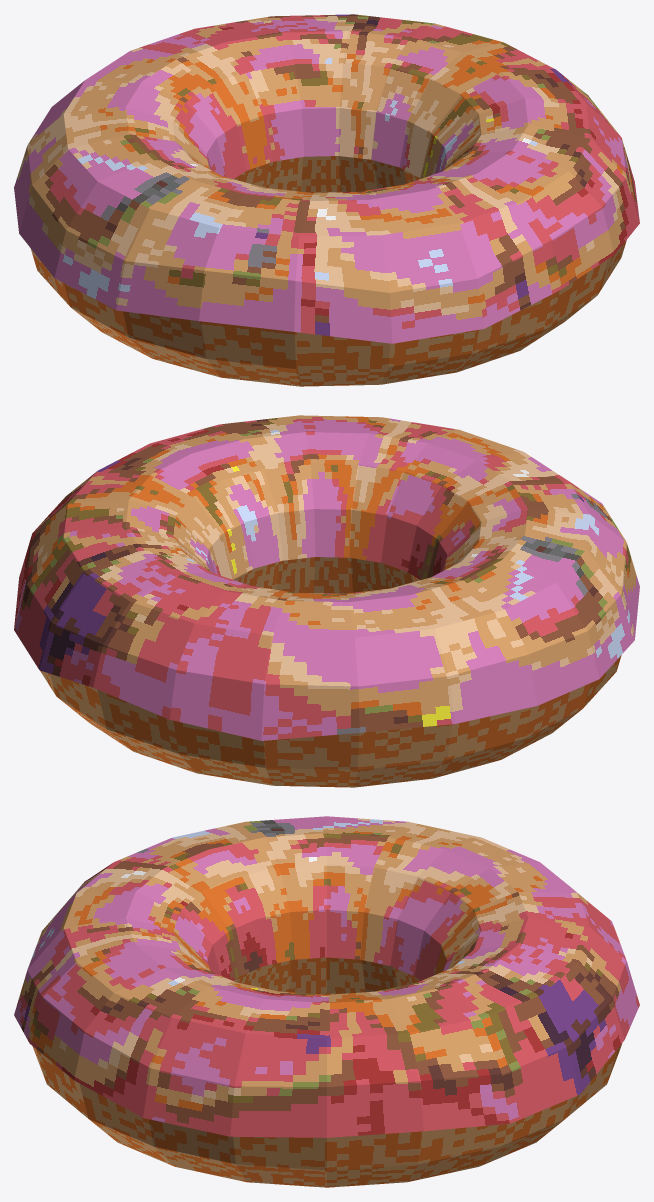
Rendered from donut_7.glb.
3 renders of one model, top to bottom at view 1: azimuth 30°, elevation 25°; view 2: azimuth 150°, elevation 25°; view 3: azimuth 270°, elevation 25°, orthographic.
Visible parts, largest first — view 1: doughnut_ps_baked; view 2: doughnut_ps_baked; view 3: doughnut_ps_baked.
Part boxes in pixels (left/top/right/bottom): doughnut_ps_baked: left=14, top=14, right=639, bottom=386; doughnut_ps_baked: left=14, top=415, right=639, bottom=787; doughnut_ps_baked: left=14, top=816, right=639, bottom=1187.
Size of the model in its own units: 1.28 by 0.3887 by 1.28.
Materials: 1 (1 with a texture image).
